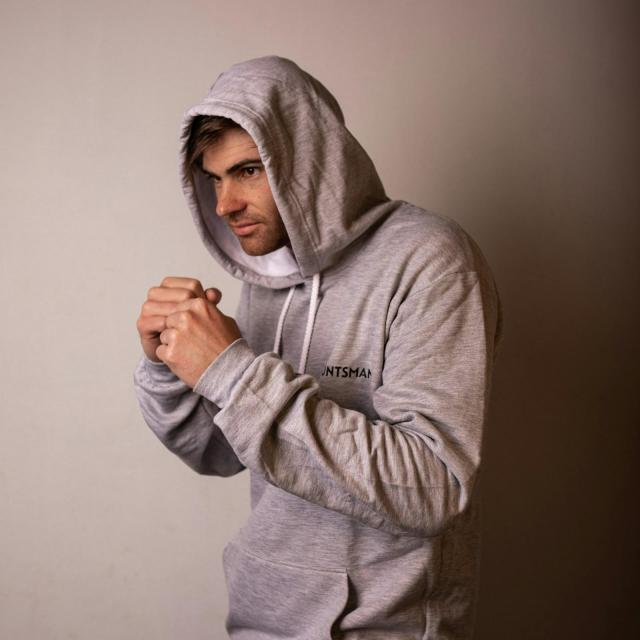4_capucha: (175, 52, 404, 290)
